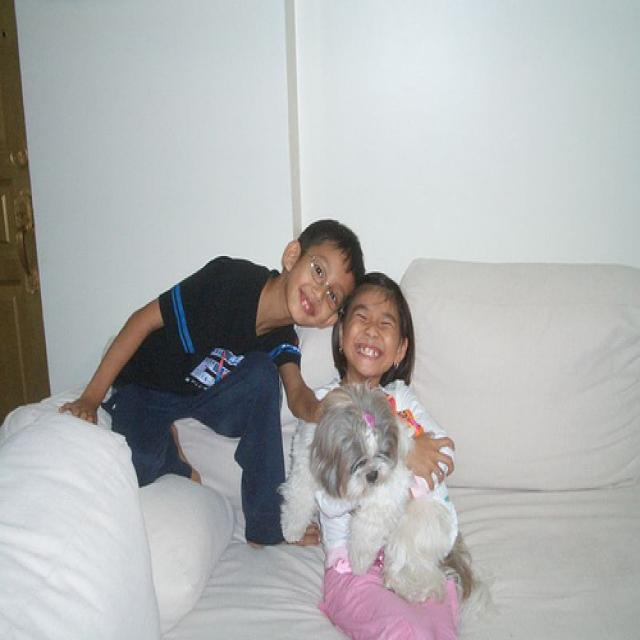dog: (279, 387, 467, 603)
person: (59, 218, 367, 545), (312, 271, 459, 639)
